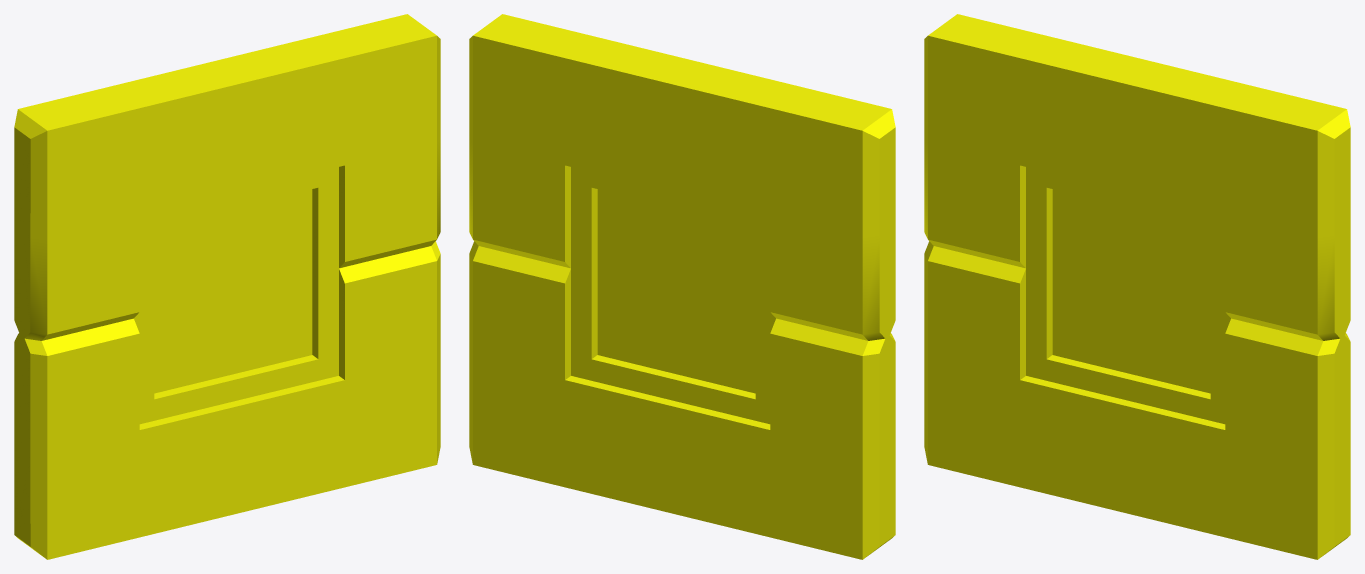
Rendered from wall_window_closed.gltf.
3 renders of one model, left to right at view 1: azimuth 30°, elevation 25°; view 2: azimuth 150°, elevation 25°; view 3: azimuth 330°, elevation 25°, orthographic.
Parts seen in each view (by area): view 1: wall_window_closed; view 2: wall_window_closed; view 3: wall_window_closed.
Boxes of the visible parts, x1=… form: wall_window_closed: x1=14, y1=14, x2=440, y2=559; wall_window_closed: x1=469, y1=14, x2=895, y2=559; wall_window_closed: x1=924, y1=14, x2=1350, y2=559.
Bounding box in the file's own units: 4 × 4 × 0.5.
1 material, 1 textured.
